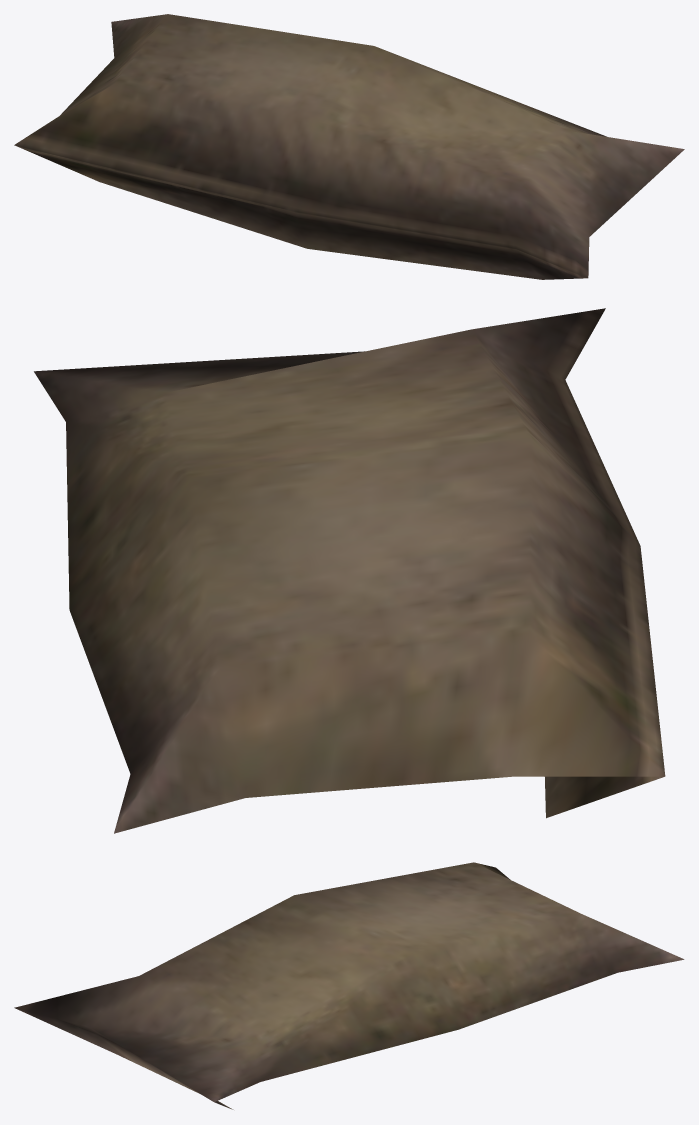
The model's file is s7_fightpve_shadai.FBX.
3 views of the same model, one above another, from view 1: azimuth 30°, elevation 25°; view 2: azimuth 150°, elevation 25°; view 3: azimuth 270°, elevation 25° (orthographic). The views are drawn at different scales.
Visible parts, largest first — view 1: Object04; view 2: Object04; view 3: Object04.
Boxes of the visible parts, box(x1,y1,x2,y2) form: Object04: box(14, 14, 684, 279); Object04: box(34, 308, 665, 833); Object04: box(14, 862, 684, 1109).
Bounding box in the file's own units: 1.63 × 0.3866 × 2.08.
